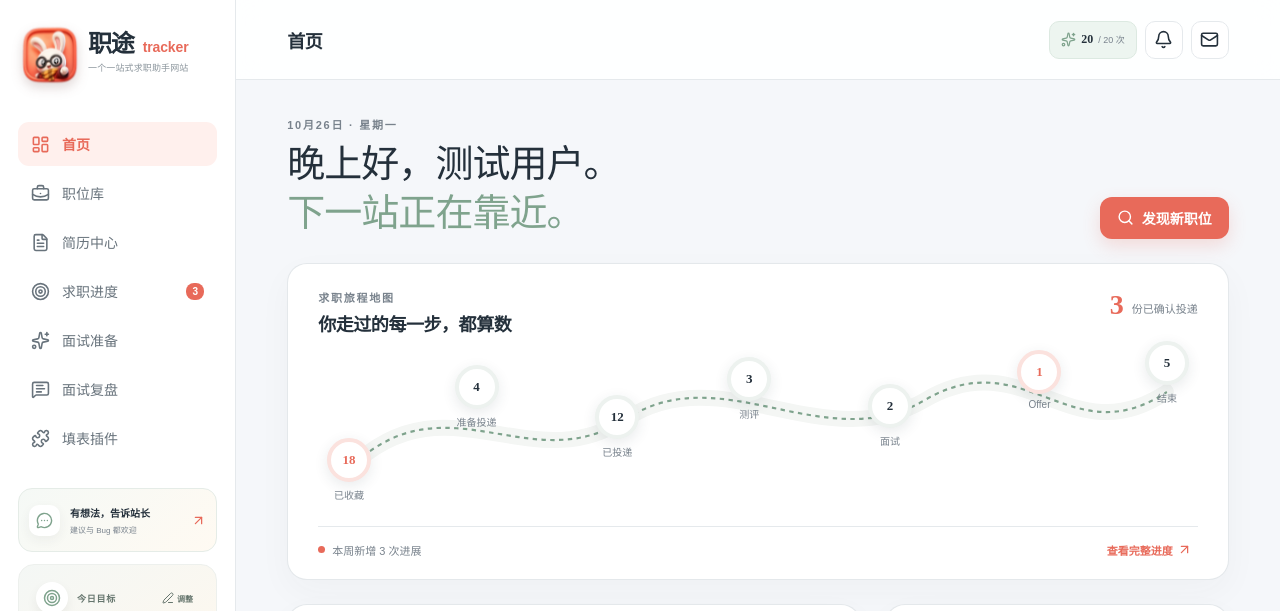
adds a working dashboard destination and keeps other navigation intact
This screenshot has width=1280, height=611.
Step 1. Click the button "填表插件" → point(118, 438), box [18,416,217,460]
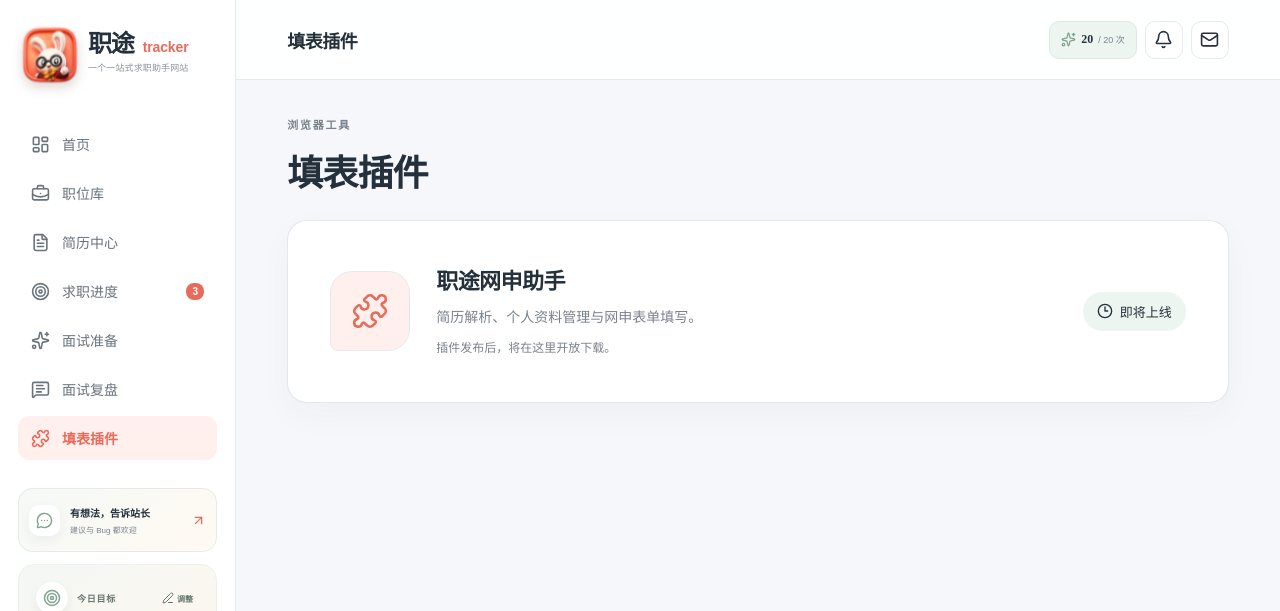
Result: the 1st heading "填表插件" is shown at [287,26,357,52]
Result: the message reads "即将上线" at [1120,305,1172,320]
Step 2. Click the button "首页" → point(118, 144), box [18,122,217,166]
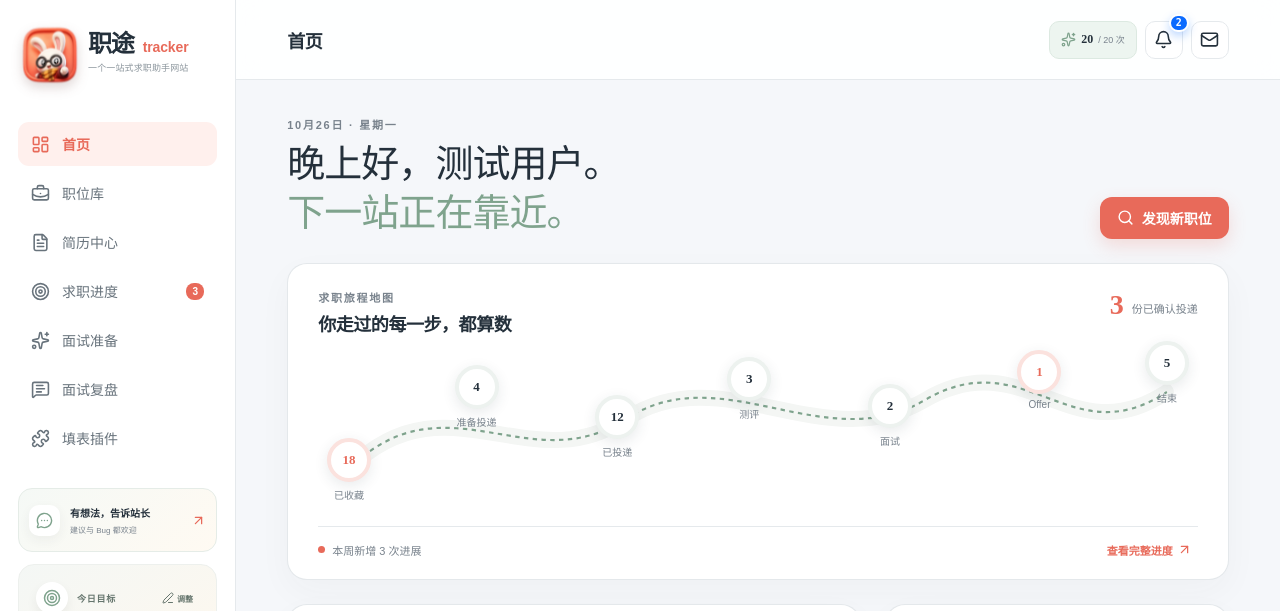
Result: the heading "职途网申助手" is gone
